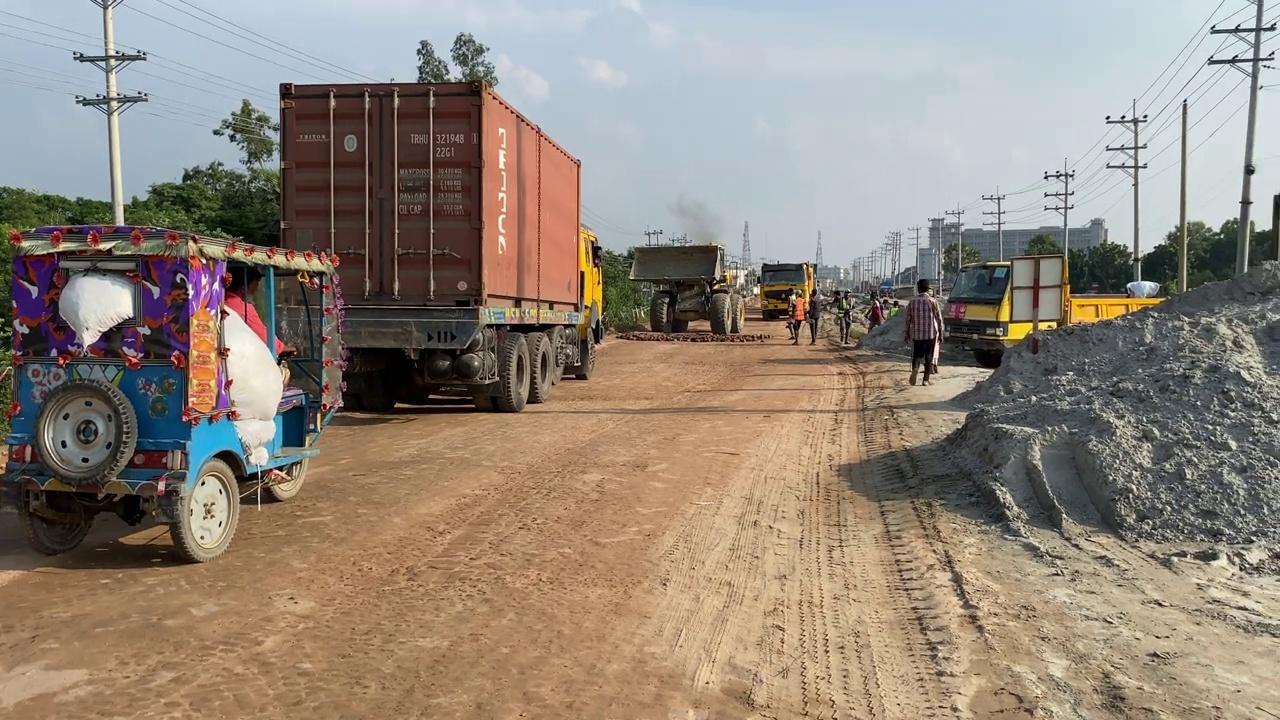Muddy road: (1, 302, 1276, 718)
Pole: (1206, 0, 1279, 277), (1233, 0, 1264, 276), (101, 1, 124, 225), (1177, 98, 1188, 292)
Tree: (2, 221, 348, 563), (275, 78, 604, 412), (942, 252, 1168, 367), (628, 239, 747, 335), (758, 260, 817, 320), (724, 262, 756, 303)
